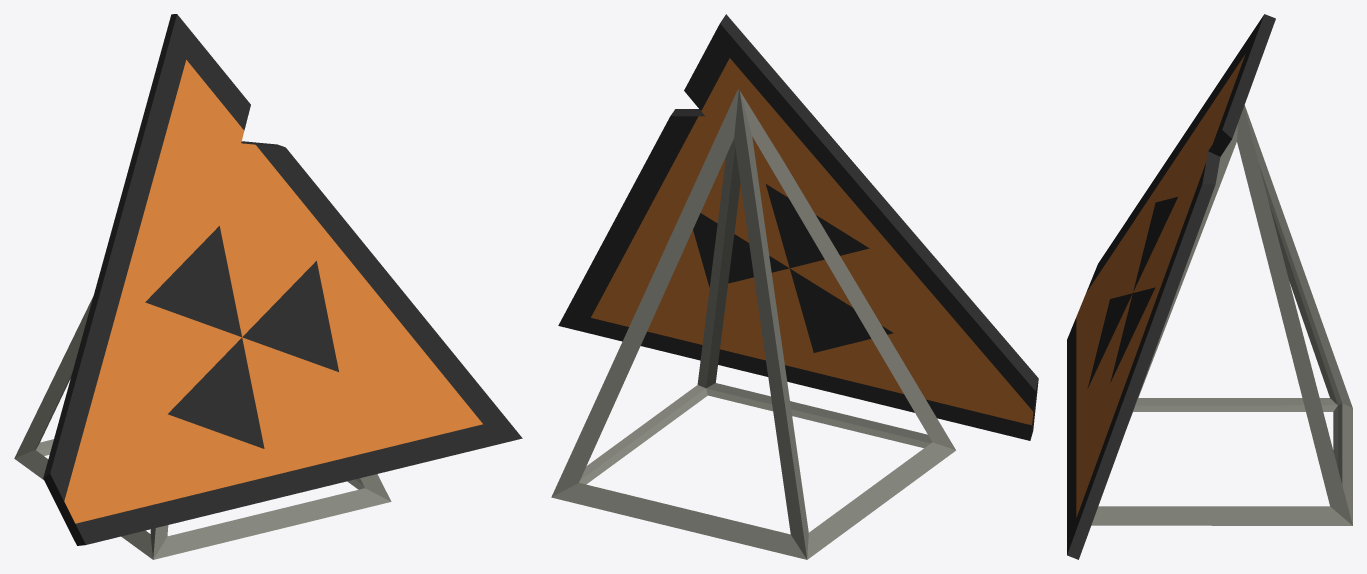
The model's file is LP_PostApoc_RadiationSign.fbx.
3 views of the same model, side by side, from view 1: azimuth 30°, elevation 25°; view 2: azimuth 150°, elevation 25°; view 3: azimuth 270°, elevation 25° (orthographic). The views are drawn at different scales.
Visible parts, largest first — view 1: RadiationSign; view 2: RadiationSign; view 3: RadiationSign.
Boxes of the visible parts, x1=… form: RadiationSign: x1=14, y1=14, x2=522, y2=559; RadiationSign: x1=551, y1=14, x2=1038, y2=559; RadiationSign: x1=1067, y1=14, x2=1352, y2=559.
Size of the model in its own units: 115 by 107 by 61.03.
